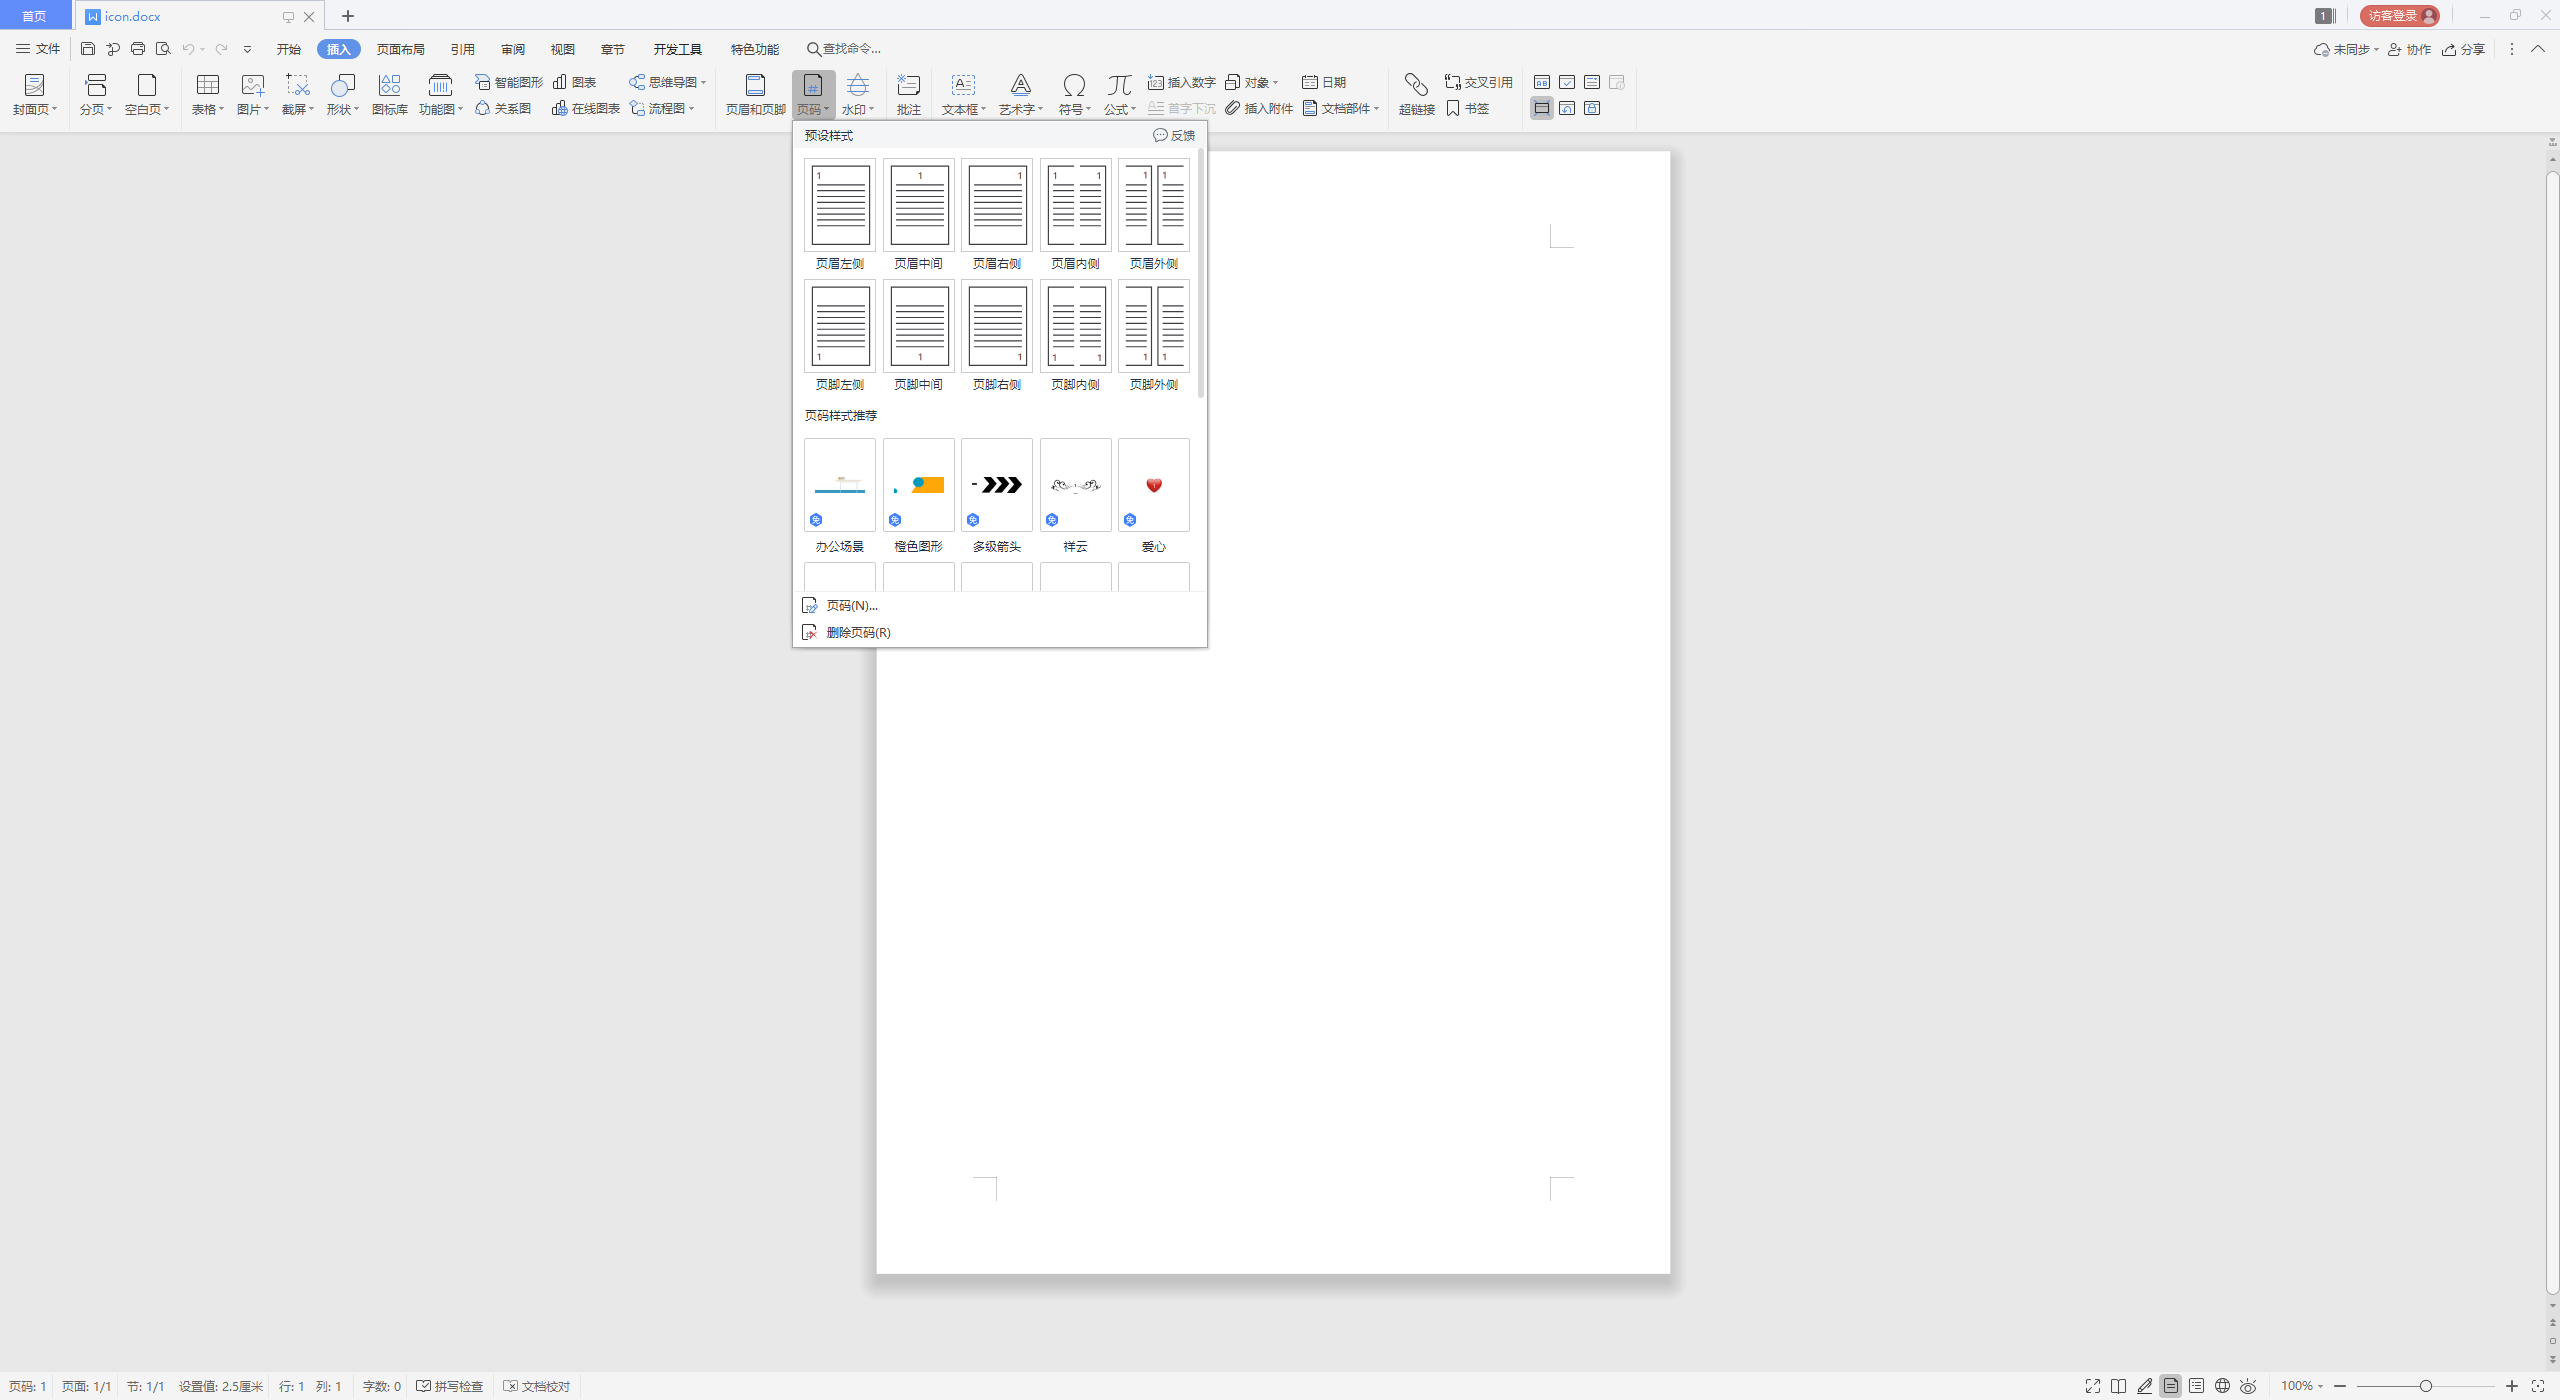character: (178, 1378, 265, 1395), (803, 409, 883, 426), (826, 624, 896, 641), (59, 1376, 114, 1395), (276, 1379, 343, 1395), (103, 7, 162, 24), (571, 97, 621, 116), (372, 40, 426, 57), (495, 71, 543, 90), (826, 598, 883, 614), (521, 1378, 571, 1395), (822, 41, 883, 55), (433, 1378, 486, 1393), (815, 255, 869, 271), (891, 376, 945, 391), (969, 378, 1022, 393), (726, 102, 784, 116), (652, 41, 703, 57), (1165, 74, 1217, 90), (1319, 100, 1371, 116), (1464, 76, 1515, 91), (2369, 7, 2415, 24), (895, 255, 946, 271), (971, 255, 1022, 271), (1052, 255, 1103, 271), (1127, 255, 1179, 271), (814, 538, 865, 553), (895, 538, 945, 553), (972, 538, 1022, 553), (126, 1376, 165, 1395), (359, 1378, 407, 1393), (729, 41, 783, 55), (5, 1378, 47, 1395), (1167, 102, 1219, 116), (1245, 102, 1296, 116), (814, 378, 865, 391), (1048, 378, 1100, 391), (1127, 378, 1179, 391), (802, 128, 853, 141), (648, 76, 696, 90), (10, 102, 47, 117), (124, 102, 160, 117), (372, 102, 409, 117), (648, 100, 684, 116), (322, 41, 353, 59), (2334, 41, 2369, 57), (1138, 538, 1169, 555), (940, 102, 977, 116), (996, 102, 1034, 116), (1400, 103, 1438, 117), (1060, 538, 1090, 555), (419, 102, 455, 116), (2460, 40, 2486, 59), (2407, 40, 2432, 59), (72, 102, 103, 117), (2281, 1378, 2312, 1393), (21, 9, 48, 26), (495, 102, 529, 116), (498, 41, 526, 59), (550, 41, 578, 59), (190, 102, 217, 117), (279, 100, 307, 116), (450, 41, 478, 57), (598, 40, 626, 55), (838, 102, 865, 117), (895, 102, 922, 117), (1057, 102, 1084, 117), (1243, 76, 1271, 91), (1322, 74, 1350, 90), (276, 41, 302, 57), (234, 100, 260, 116), (326, 102, 352, 117), (572, 74, 598, 90), (796, 102, 822, 117), (1103, 100, 1129, 116), (1465, 100, 1491, 116), (33, 41, 60, 55), (1171, 129, 1196, 141), (2546, 1352, 2557, 1367)
icon: (798, 438, 876, 533), (800, 159, 877, 252), (1040, 436, 1114, 533), (1117, 440, 1189, 534), (879, 440, 953, 531), (1115, 279, 1189, 371), (960, 159, 1033, 252), (1038, 279, 1110, 372), (802, 279, 874, 371), (962, 440, 1034, 531), (960, 279, 1033, 371), (884, 159, 955, 252), (1040, 159, 1110, 252), (1117, 159, 1188, 252), (884, 279, 953, 372), (1548, 1178, 1577, 1203), (972, 1172, 1002, 1198), (329, 72, 357, 98), (133, 71, 160, 97), (286, 71, 314, 97), (948, 71, 976, 97), (798, 72, 826, 98), (1103, 72, 1133, 97), (845, 71, 871, 97), (1403, 71, 1429, 97), (1548, 228, 1574, 253), (1060, 72, 1088, 97), (84, 71, 109, 97), (195, 72, 221, 97), (240, 72, 265, 97), (378, 72, 402, 97), (428, 72, 452, 97), (2158, 1372, 2182, 1397), (1531, 95, 1553, 121), (22, 72, 45, 97), (1008, 72, 1031, 97), (2184, 1374, 2208, 1397), (2107, 1374, 2129, 1397), (2236, 1374, 2258, 1397), (745, 72, 765, 97), (896, 74, 921, 95), (2134, 1376, 2157, 1397), (2212, 1374, 2232, 1397), (2082, 1374, 2105, 1395), (2313, 5, 2338, 24), (2419, 5, 2439, 26), (338, 5, 357, 24), (550, 71, 569, 90), (628, 72, 646, 91), (472, 72, 491, 91), (628, 98, 646, 117), (1222, 72, 1241, 91), (1607, 72, 1626, 91), (1583, 72, 1602, 91), (1533, 72, 1552, 91), (1557, 72, 1576, 91), (800, 622, 819, 641), (414, 1376, 433, 1395), (78, 40, 97, 57), (153, 40, 172, 57), (14, 40, 33, 57), (472, 98, 491, 116), (1222, 98, 1241, 116), (1152, 126, 1169, 145), (1583, 98, 1602, 116), (1443, 98, 1462, 116), (1557, 98, 1576, 116), (2417, 1376, 2434, 1395), (84, 9, 102, 26), (103, 40, 121, 57), (552, 98, 569, 116), (805, 40, 822, 57), (1302, 98, 1319, 116), (1302, 72, 1319, 90), (1146, 98, 1164, 116), (1445, 72, 1462, 90), (2313, 40, 2331, 57), (2503, 40, 2520, 57), (802, 597, 819, 614), (502, 1378, 519, 1395), (2527, 1378, 2546, 1393), (179, 41, 197, 57), (129, 40, 147, 55), (300, 9, 317, 24), (1146, 74, 1164, 90), (2439, 41, 2457, 57), (2505, 1378, 2520, 1395), (212, 41, 228, 57), (2388, 41, 2403, 57), (2538, 7, 2553, 22), (279, 10, 297, 24), (2529, 41, 2546, 55), (2507, 7, 2524, 21), (2476, 9, 2493, 22), (1122, 512, 1136, 528), (965, 514, 979, 528), (888, 514, 902, 528), (1045, 514, 1058, 528), (2332, 1378, 2346, 1391), (865, 102, 879, 114), (809, 514, 821, 528), (2315, 1378, 2327, 1391), (2548, 1333, 2558, 1348), (2546, 136, 2558, 148), (2546, 152, 2558, 164), (698, 76, 709, 90), (217, 102, 228, 116), (2546, 1317, 2560, 1328), (50, 102, 60, 114), (2372, 41, 2382, 53), (105, 103, 116, 116), (352, 103, 362, 116), (164, 102, 172, 116), (309, 102, 317, 116), (686, 103, 696, 114), (1084, 103, 1095, 114), (1372, 103, 1383, 114), (262, 102, 271, 114), (457, 103, 465, 116), (2548, 1298, 2557, 1310), (979, 102, 988, 114), (241, 45, 252, 53), (824, 103, 833, 114), (1036, 103, 1045, 114), (1131, 103, 1140, 114), (1272, 78, 1281, 88)
